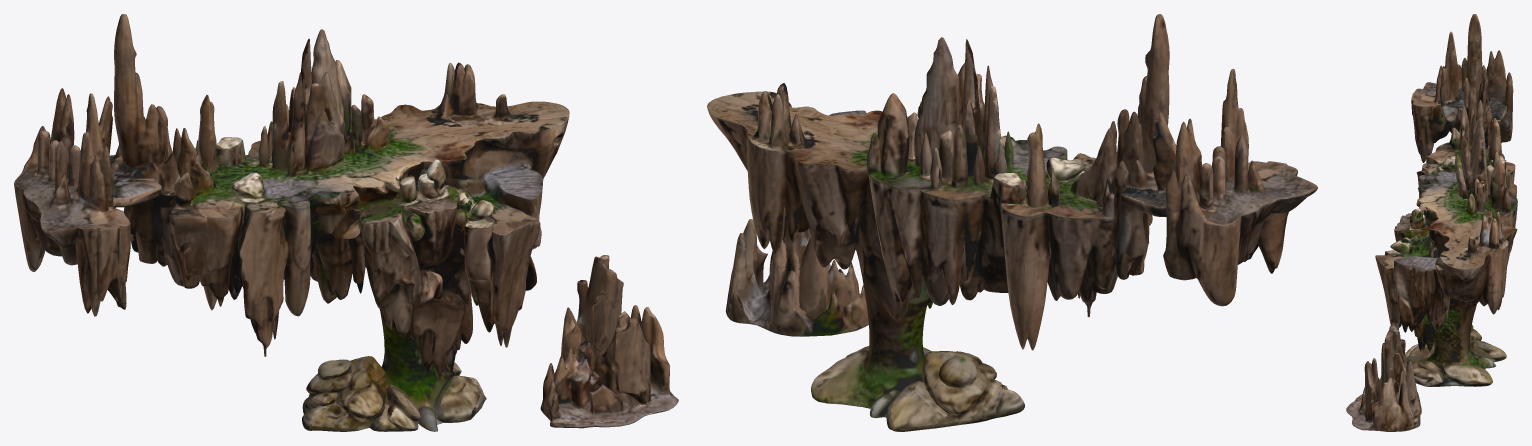
The model's file is Daobay3v5-v9.glb.
3 views of the same model, side by side, from view 1: azimuth 30°, elevation 25°; view 2: azimuth 150°, elevation 25°; view 3: azimuth 270°, elevation 25° (orthographic). The views are drawn at different scales.
Parts seen in each view (by area): view 1: geometry_0; view 2: geometry_0; view 3: geometry_0.
Boxes of the visible parts, x1,y1,x2,y2 form: geometry_0: (14,14,678,431); geometry_0: (707,14,1317,431); geometry_0: (1346,14,1517,431).
Size of the model in its own units: 0.9585 by 0.6803 by 0.3871.
1 material, 1 textured.
